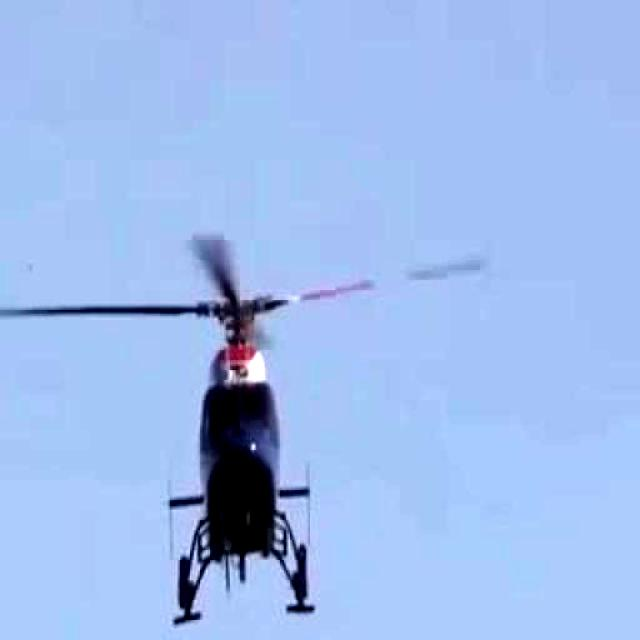drone: (38, 200, 445, 640)
